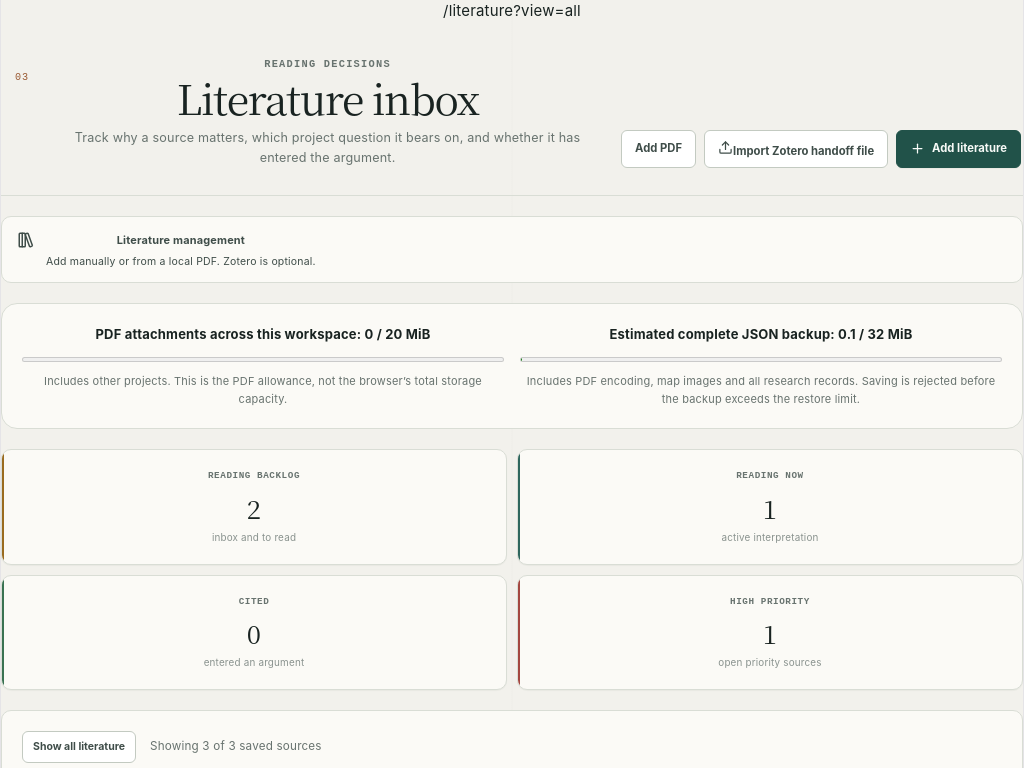
Test: LiteraturePage Zotero handoff › retains input and reports a storage failure instead of closing the form
Click the button "Add literature" at (959, 149), box left=896, top=130, right=1021, bottom=168
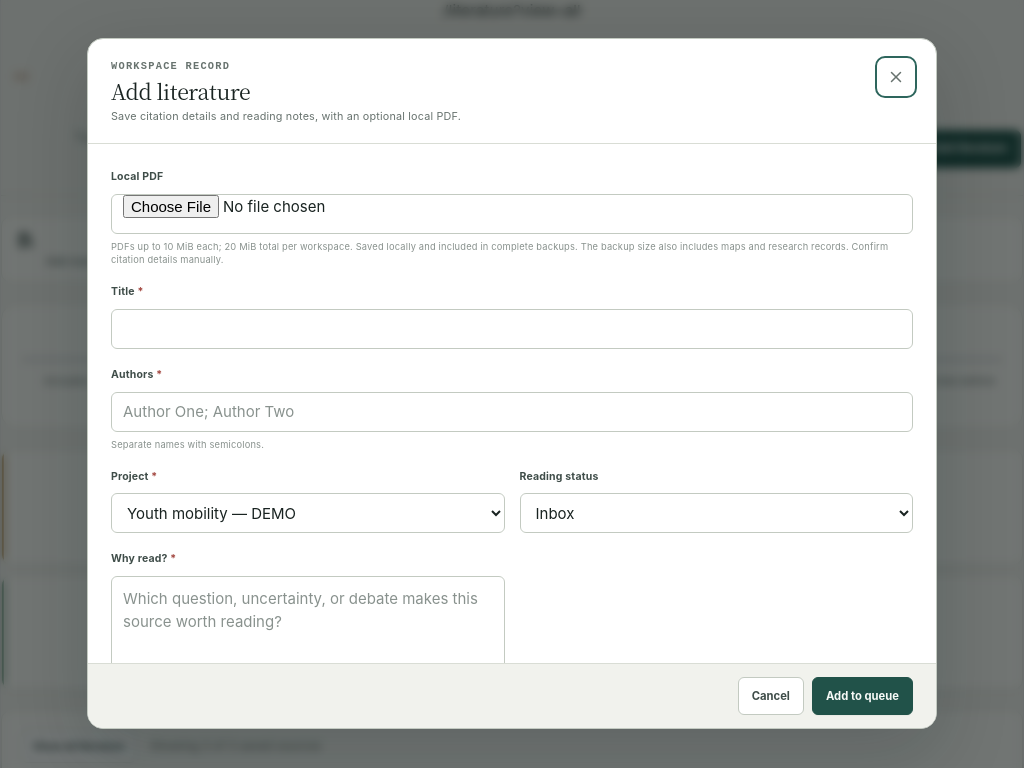
Type "SYNTHETIC unsaved source" into the field labelled "Title" at (512, 329), box left=111, top=309, right=913, bottom=349
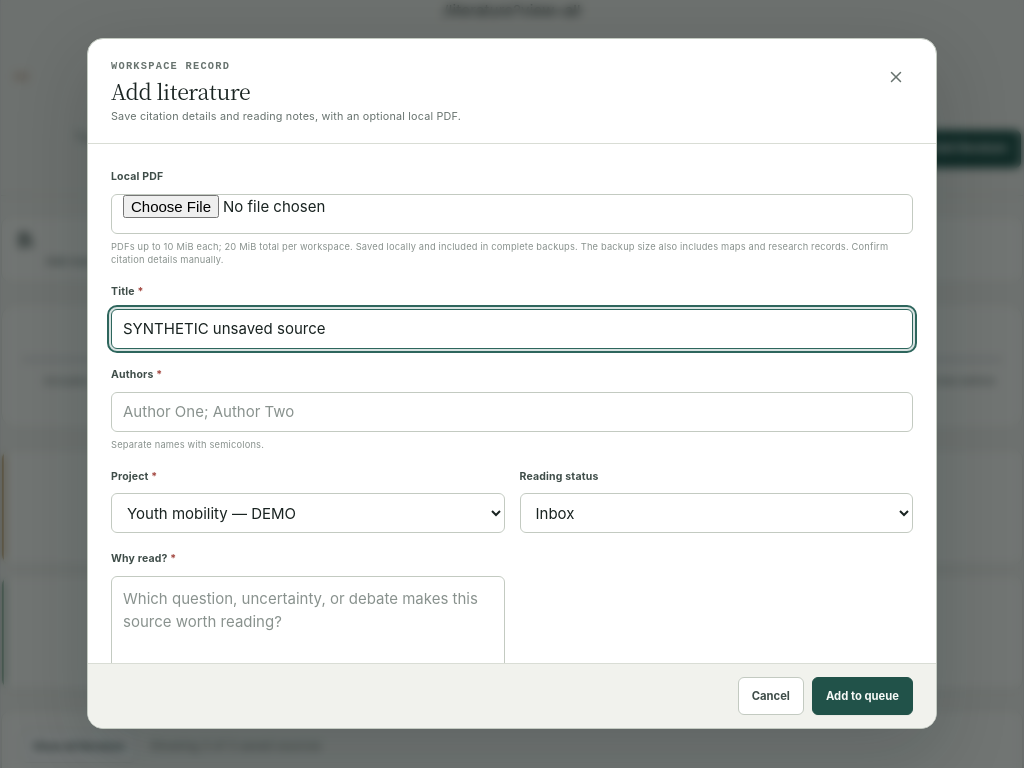
Type "Synthetic Author" into the field labelled "Authors" at (512, 412), box left=111, top=392, right=913, bottom=432
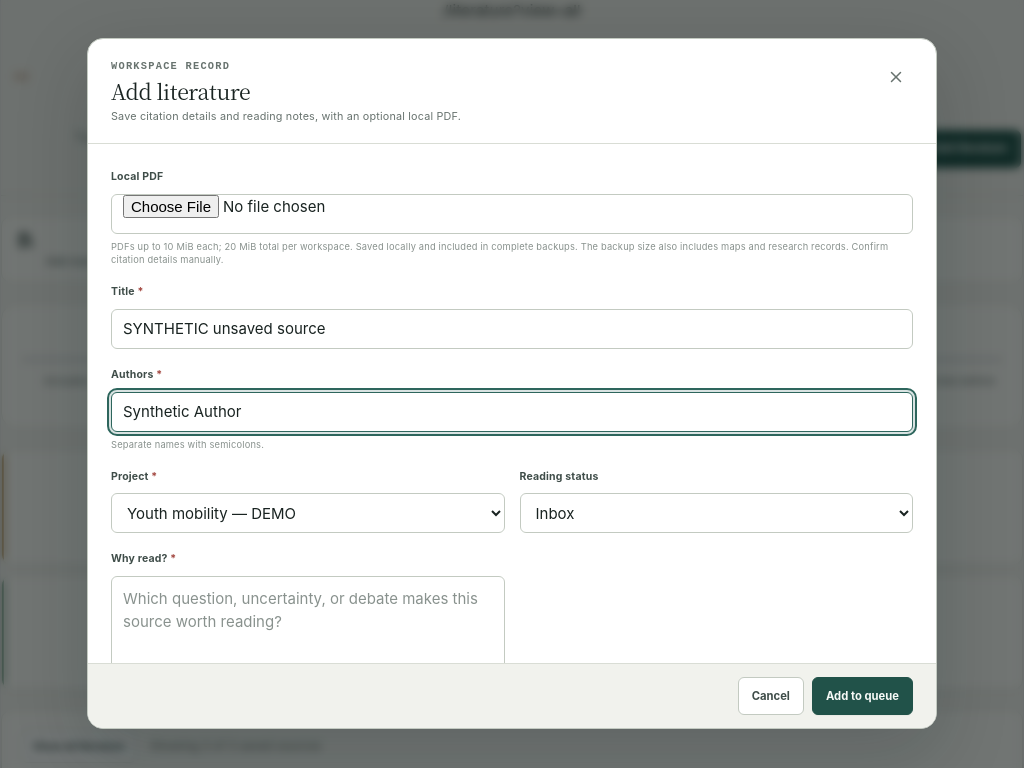
Type "SYNTHETIC rationale" into the text box labelled "Why read?" at (308, 634), box left=111, top=576, right=504, bottom=692
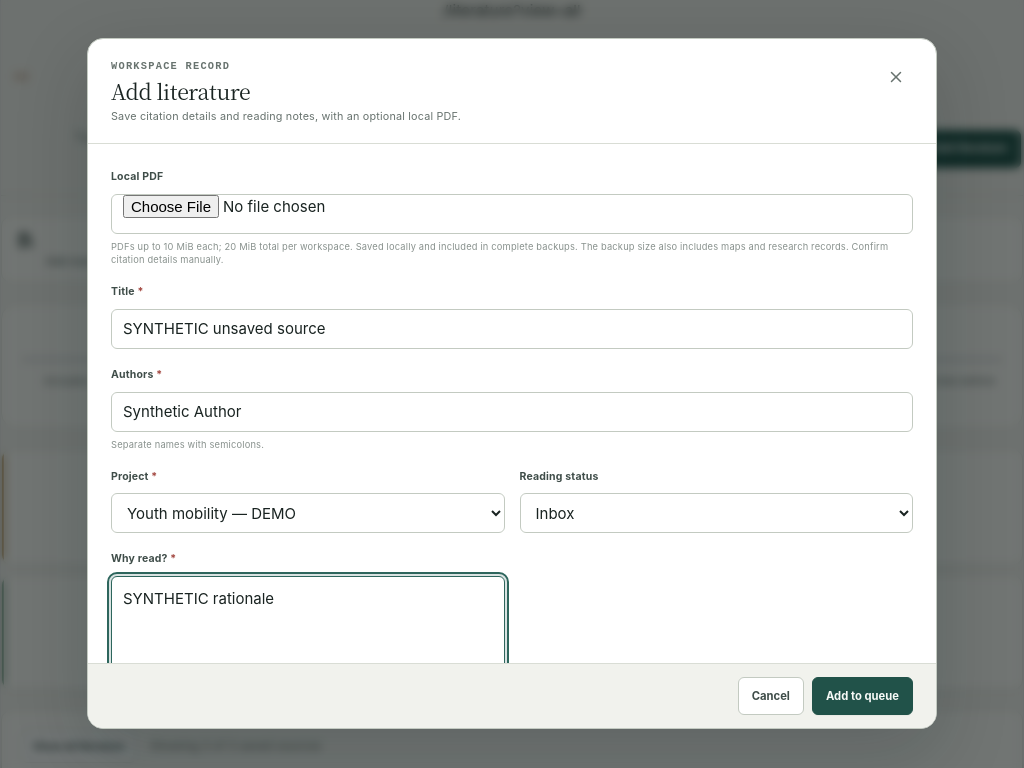
Click the button "Add to queue" at (862, 697), box left=812, top=678, right=913, bottom=716
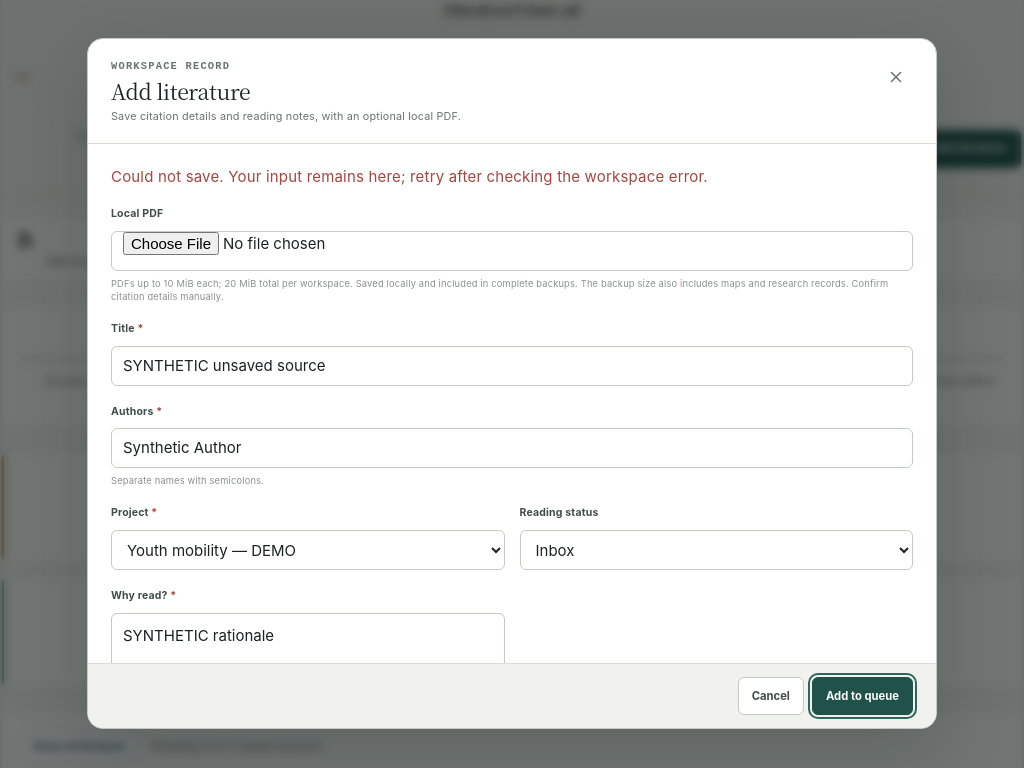
expect the message shows "Could not save": met, box left=111, top=168, right=708, bottom=187
